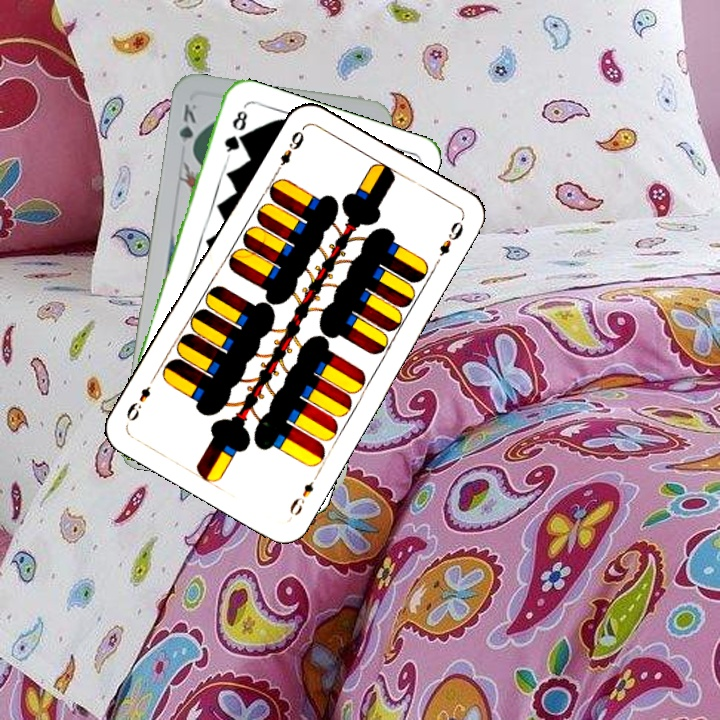E9: (271, 123, 307, 177), (285, 468, 322, 519)
G8: (220, 106, 250, 161)
GK: (175, 100, 200, 157)
